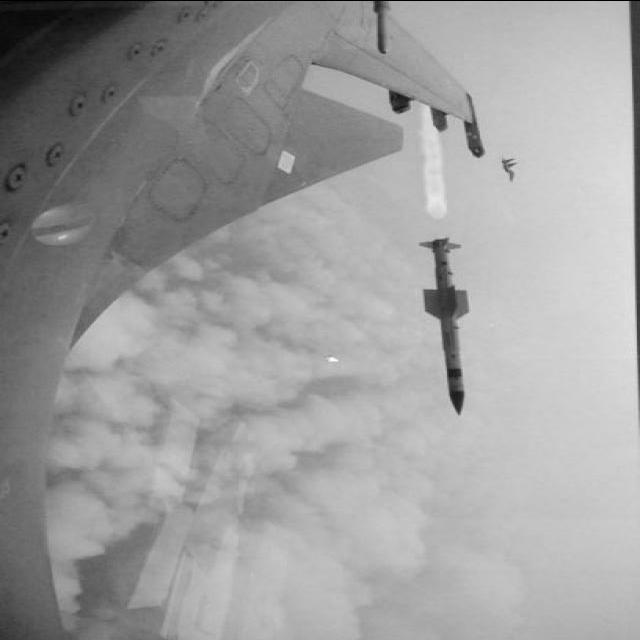missile: (412, 234, 478, 421)
